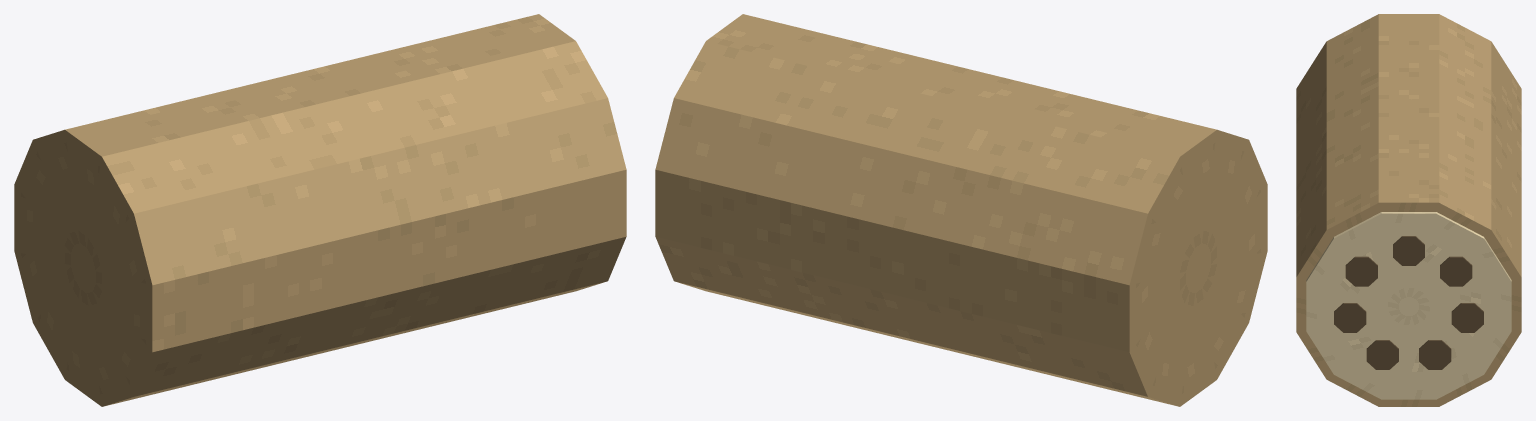
Rendered from lotus_rhizome.glb.
3 renders of one model, left to right at view 1: azimuth 30°, elevation 25°; view 2: azimuth 150°, elevation 25°; view 3: azimuth 270°, elevation 25°, orthographic. The views are drawn at different scales.
Parts seen in each view (by area): view 1: block_lotus skin; view 2: block_lotus skin; view 3: block_lotus skin, block_cut lotus face, block_dark air channel (×7).
Part boxes in pixels (x1,y1,x2,y2): block_lotus skin: (14,14,626,406); block_lotus skin: (655,14,1267,406); block_lotus skin: (1296,14,1521,406); block_cut lotus face: (1306,212,1511,399); block_dark air channel (×7): (1334,236,1483,369).
Size of the model in its own units: 0.181 by 0.0899 by 0.0899.
Materials: 1 (1 with a texture image).
